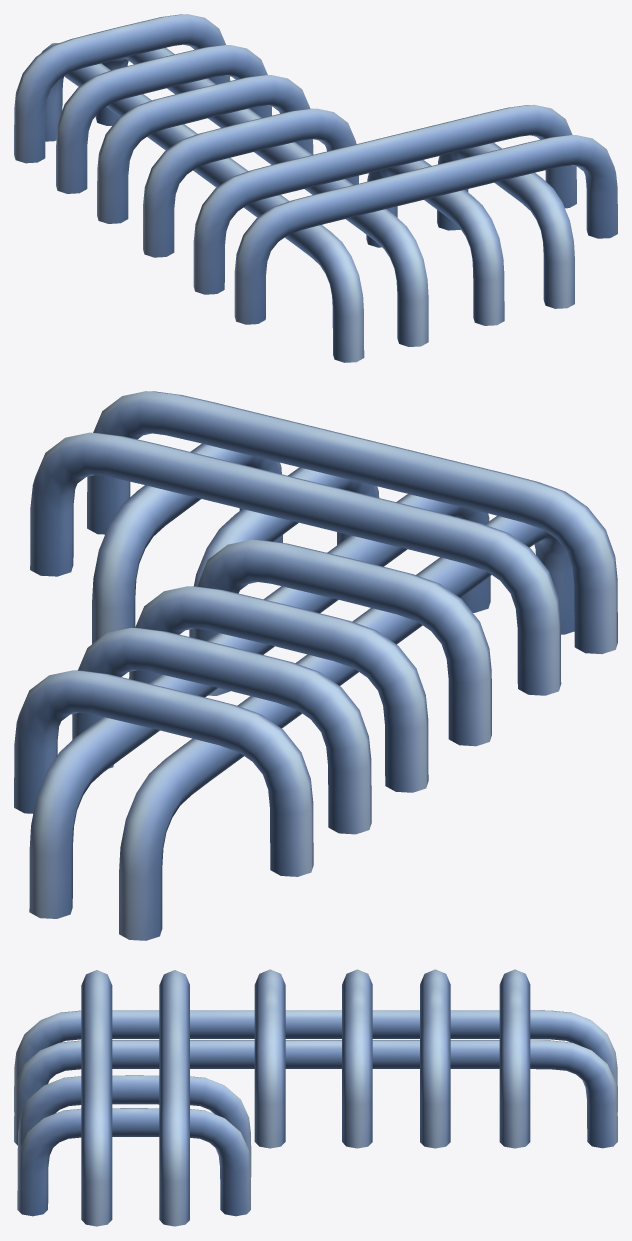
Rendered from Lock_L2.fbx.
3 views of the same model, one above another, from view 1: azimuth 30°, elevation 25°; view 2: azimuth 150°, elevation 25°; view 3: azimuth 270°, elevation 25° (orthographic). The views are drawn at different scales.
Parts seen in each view (by area): view 1: lock_L2; view 2: lock_L2; view 3: lock_L2.
Boxes of the visible parts, x1,y1,x2,y2 form: lock_L2: [14, 14, 617, 362]; lock_L2: [14, 391, 617, 940]; lock_L2: [14, 969, 617, 1226].
Bounding box in the file's own units: 2.31 × 0.779 × 3.34.
